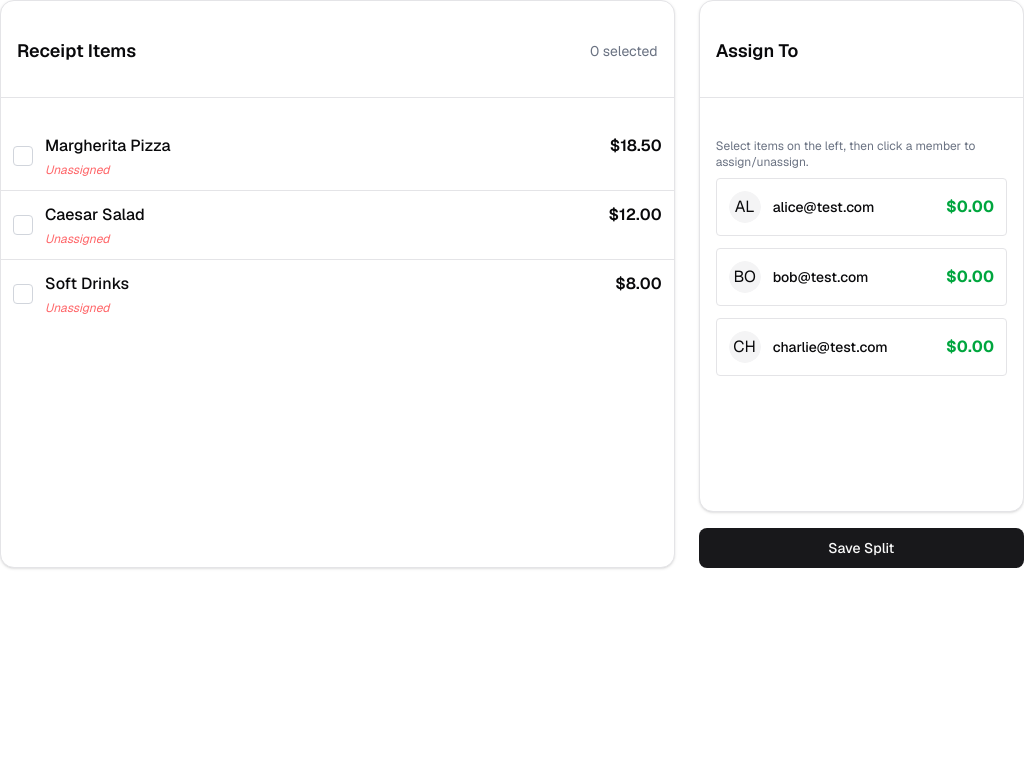
Test: ReceiptSplitter › should toggle item selection
Expected: the text "0 selected" is shown, x1=590 y1=41 x2=658 y2=61
What coordinates should you click on to do the following:
click the text "Margherita Pizza"
I would click on:
 (108, 146)
Its box is x1=45 y1=134 x2=662 y2=158.
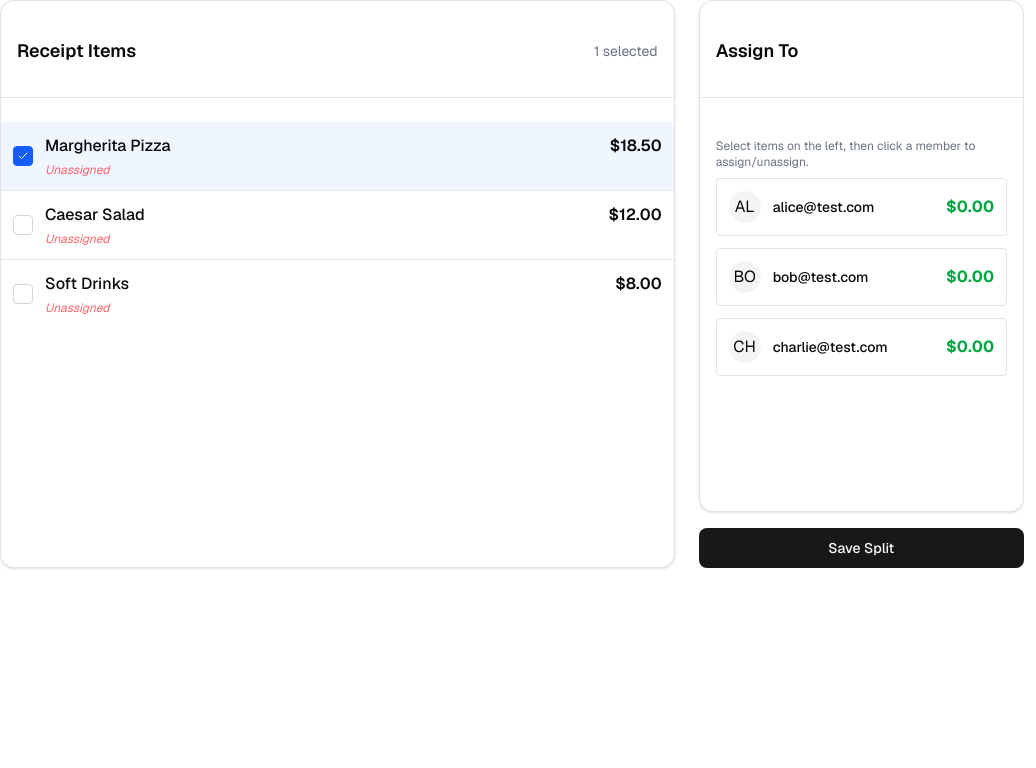
Expected: the text "1 selected" is shown, x1=594 y1=41 x2=658 y2=61
